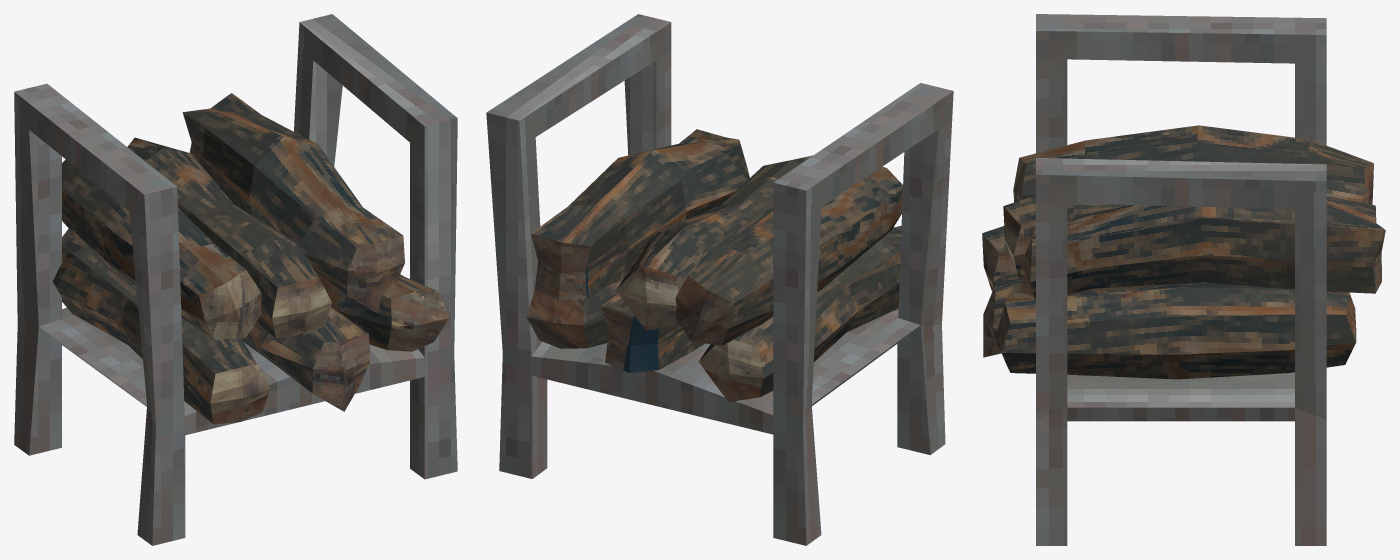
Rendered from TimberPile.gltf.
3 views of the same model, side by side, from view 1: azimuth 30°, elevation 25°; view 2: azimuth 150°, elevation 25°; view 3: azimuth 270°, elevation 25° (orthographic). The views are drawn at different scales.
Visible parts, largest first — view 1: Cube.002; view 2: Cube.002; view 3: Cube.002.
Part boxes in pixels (left/top/right/bottom): Cube.002: left=14, top=14, right=457, bottom=545; Cube.002: left=486, top=14, right=953, bottom=545; Cube.002: left=982, top=14, right=1385, bottom=545.
Size of the model in its own units: 0.6433 by 0.6652 by 0.6557.
1 material, 1 textured.
